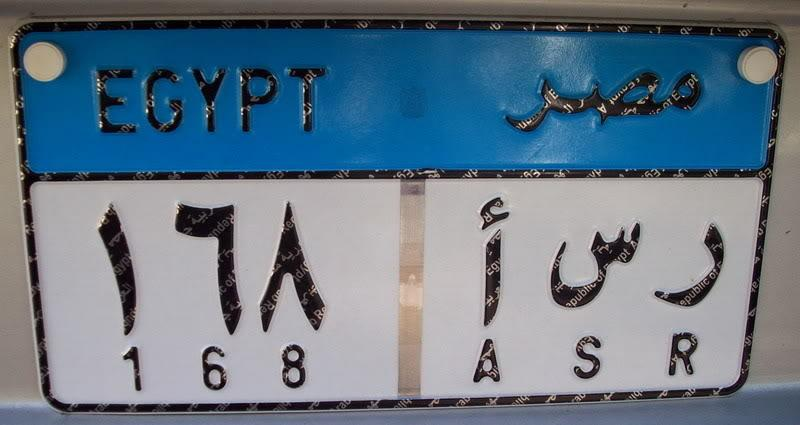1: (81, 196, 150, 346)
6: (164, 194, 250, 338)
8: (256, 197, 337, 336)
alif: (463, 187, 523, 333)
raa: (651, 216, 729, 324)
seen: (540, 207, 643, 316)
